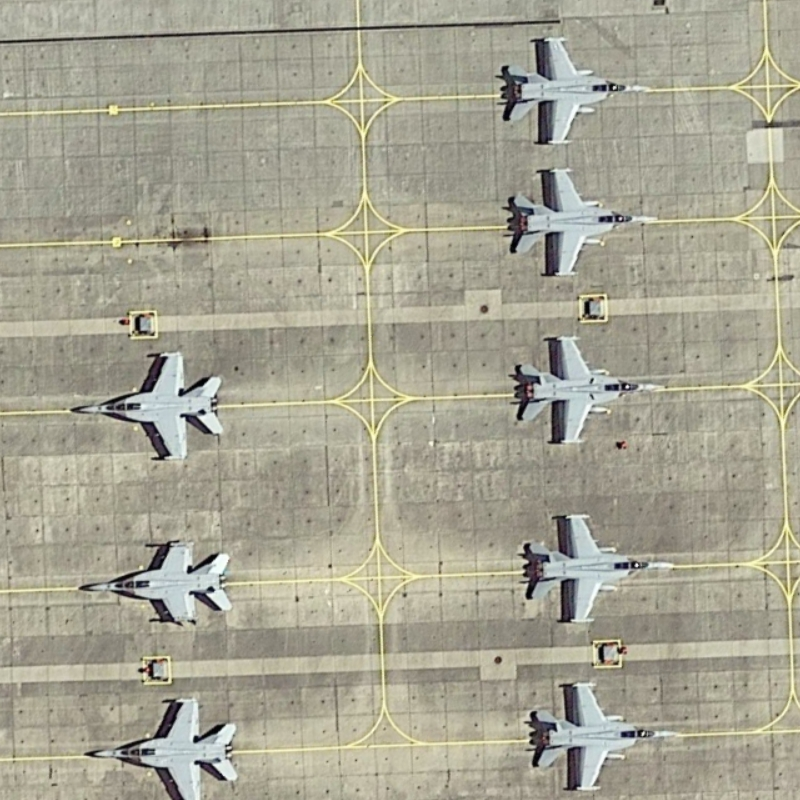A16: (63, 346, 231, 472), (507, 328, 672, 455), (525, 672, 680, 800), (520, 503, 676, 630), (504, 159, 659, 284), (493, 33, 655, 149), (84, 689, 246, 800), (73, 533, 243, 634)
